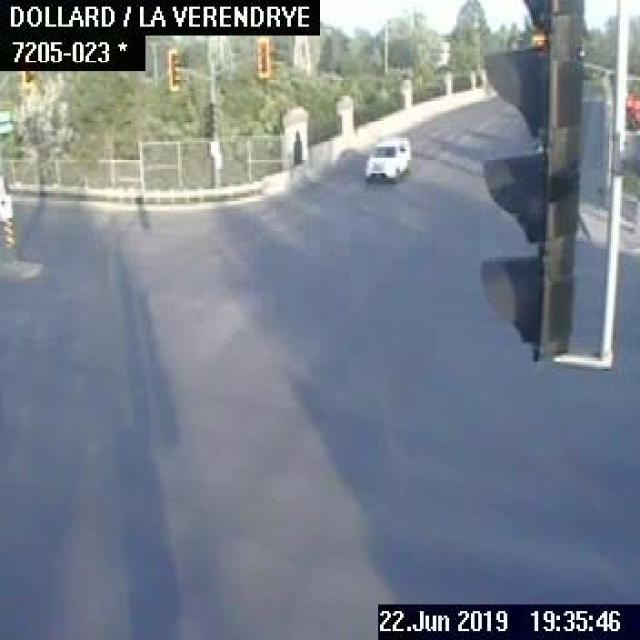vehicle: (362, 134, 413, 182)
